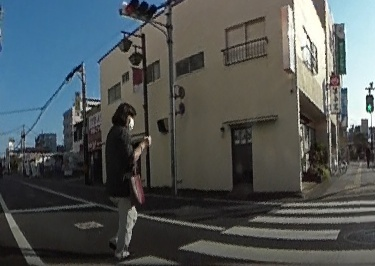person: (106, 100, 143, 255), (364, 146, 372, 166)
